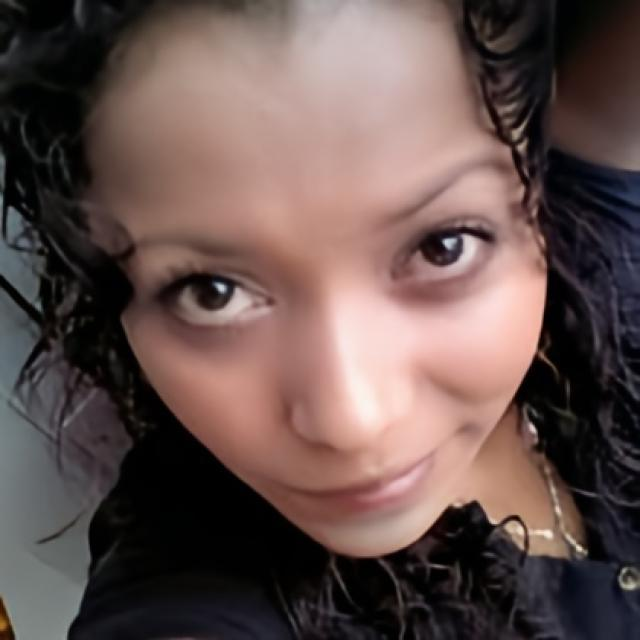content: (84, 0, 549, 557)
